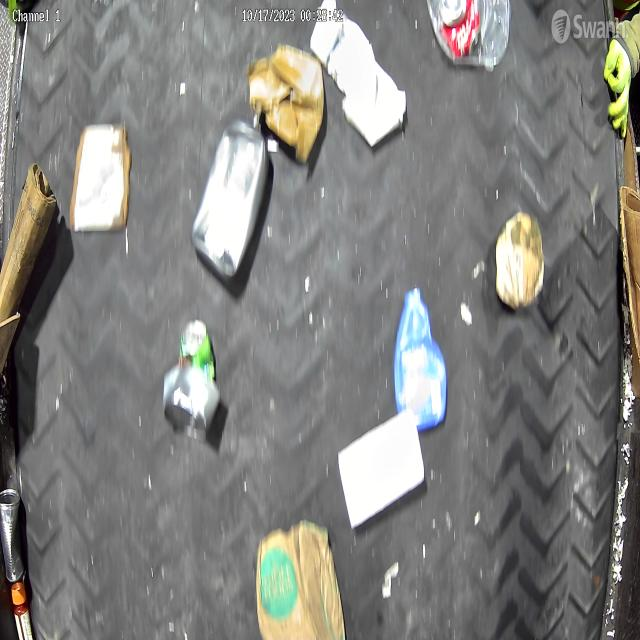can: (162, 368, 220, 438), (438, 0, 480, 57), (0, 488, 25, 582), (178, 320, 216, 380)
non_white_jug: (192, 122, 268, 283), (393, 288, 449, 436)
